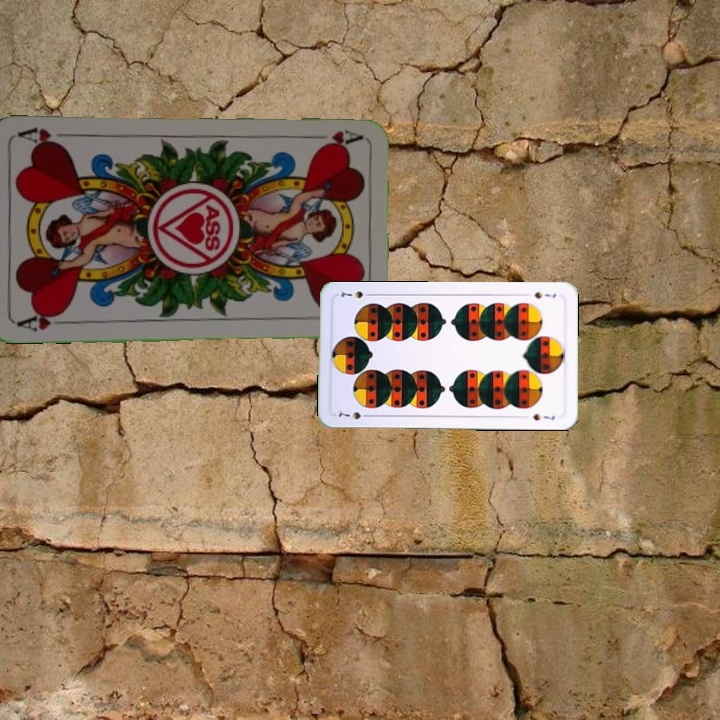HA: (14, 308, 73, 335), (303, 125, 362, 148)
S7: (334, 406, 373, 422), (530, 287, 558, 301)
